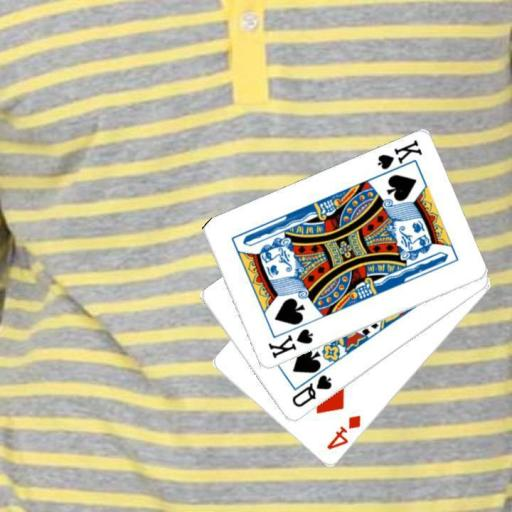card-corner: (373, 137, 424, 179), (288, 372, 334, 410), (265, 326, 315, 360), (324, 412, 362, 452)
